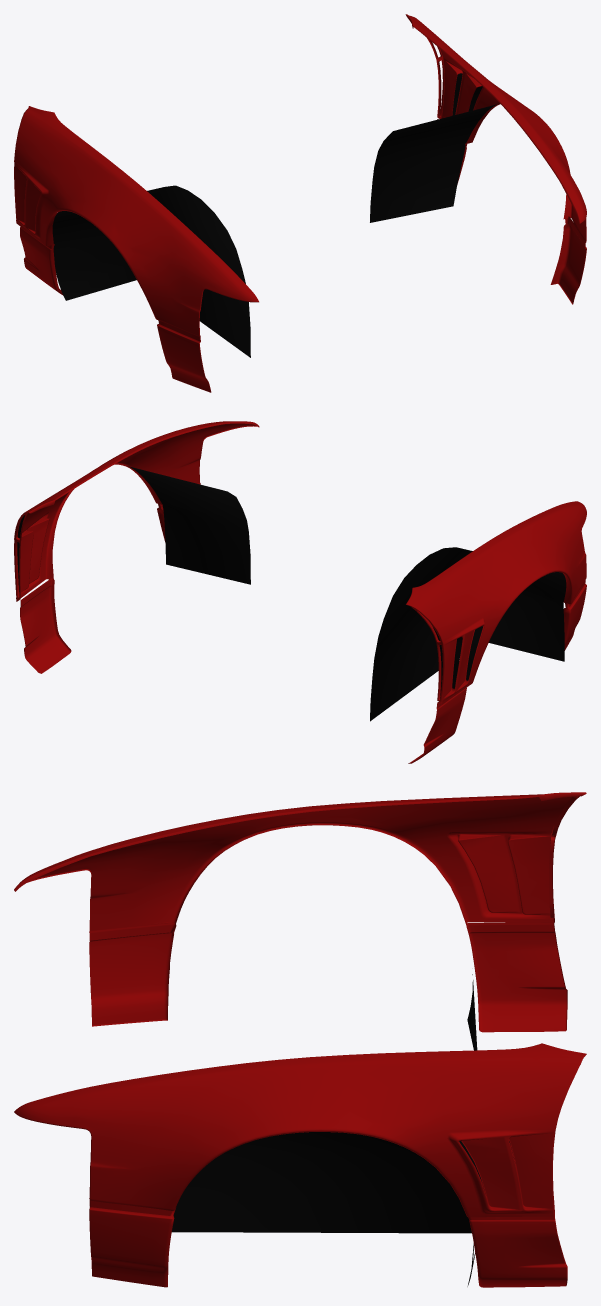
Rendered from frontfenders_carmodifywonderglare.glb.
The picture shows the model from 3 angles, top to bottom: view 1: azimuth 30°, elevation 25°; view 2: azimuth 150°, elevation 25°; view 3: azimuth 270°, elevation 25°; orthographic projection. The views are drawn at different scales.
Parts seen in each view (by area): view 1: Fenders, Undercarriage; view 2: Fenders, Undercarriage, Cover; view 3: Fenders, Undercarriage.
Part boxes in pixels (bbox=[...]): Fenders: bbox=[14, 14, 586, 392]; Undercarriage: bbox=[52, 103, 499, 357]; Fenders: bbox=[14, 421, 586, 763]; Undercarriage: bbox=[127, 466, 566, 721]; Cover: bbox=[17, 515, 482, 698]; Fenders: bbox=[14, 792, 586, 1287]; Undercarriage: bbox=[172, 974, 477, 1286].
Bounding box in the file's own units: 1.79 × 0.6547 × 1.41.
